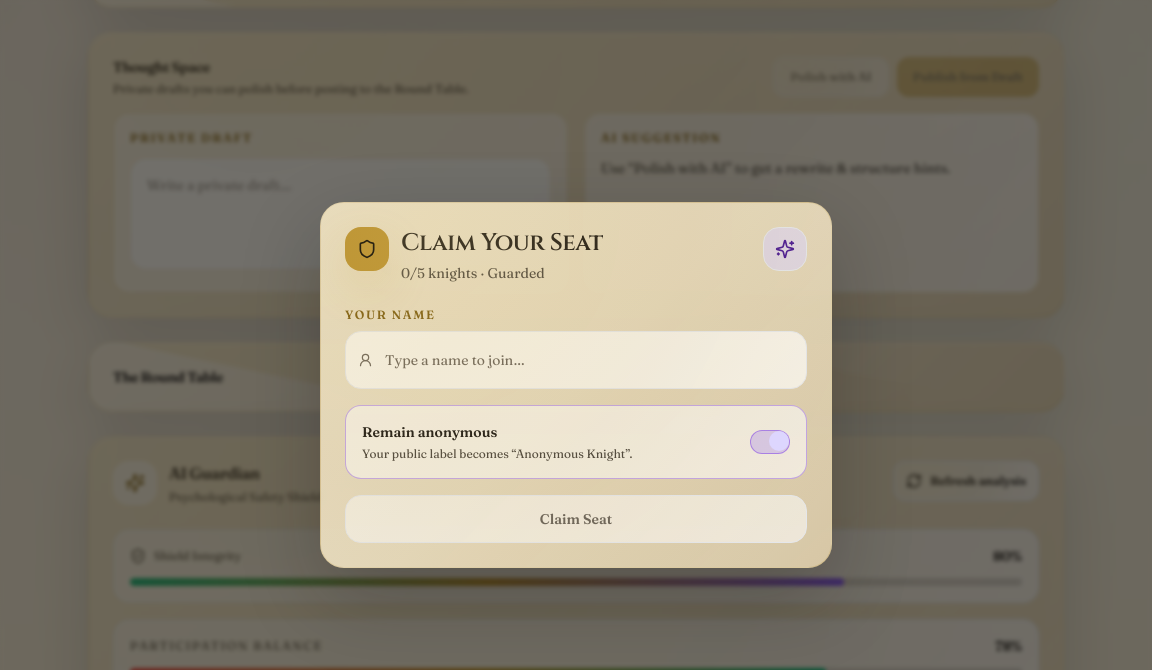
structured room disables sending when it is not your turn
(page scrolled)
Expected: the heading "Claim Your Seat" is shown, [401, 227, 603, 259]
Type "Alice" into the field labelled "YOUR NAME" at (590, 360), box [385, 340, 794, 380]
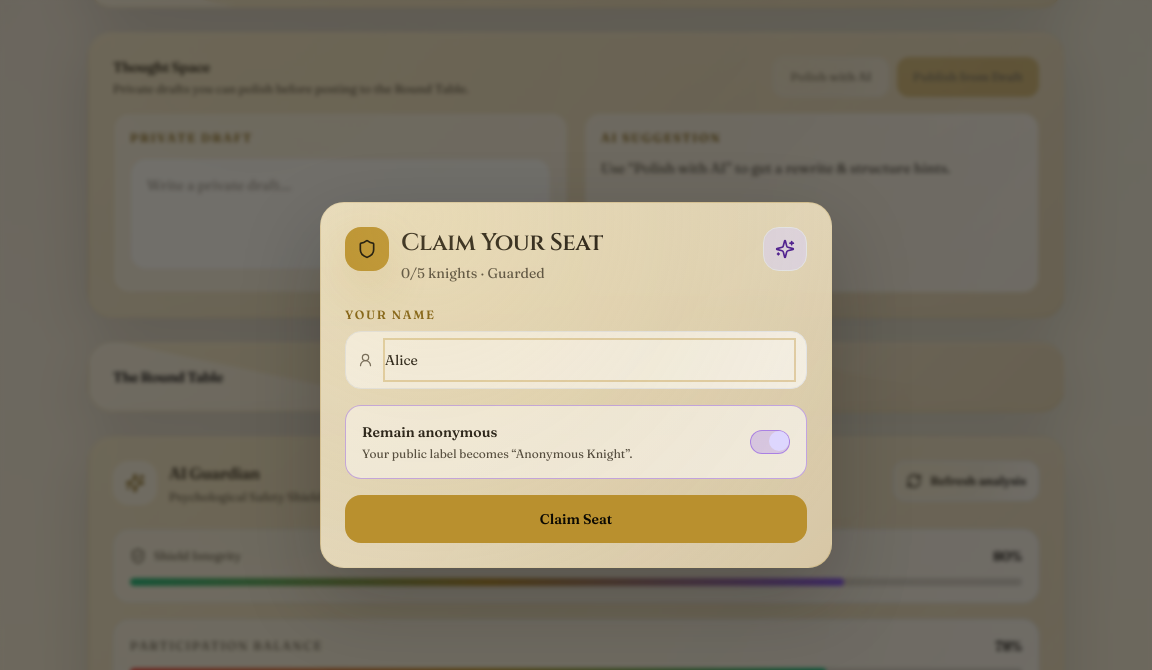
Click the button "Claim Seat" at (576, 519), box [345, 495, 807, 543]
(page scrolled)
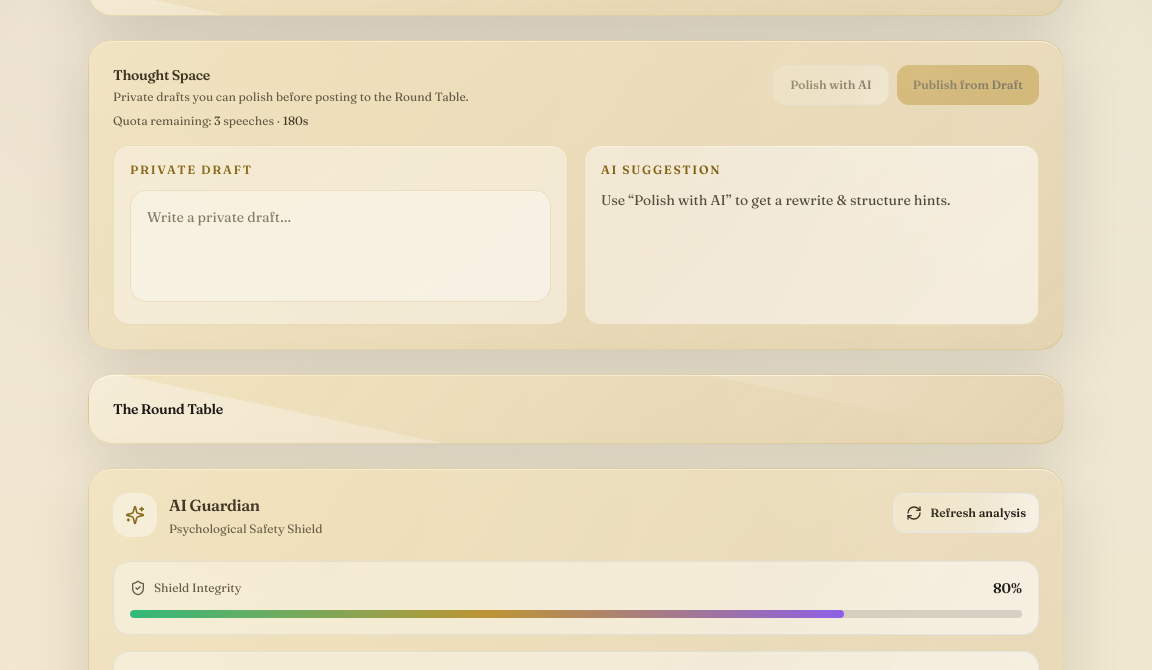
Type "Hi" into the text box labelled "Write a private draft…" at (340, 246), box [130, 190, 551, 302]
(page scrolled)
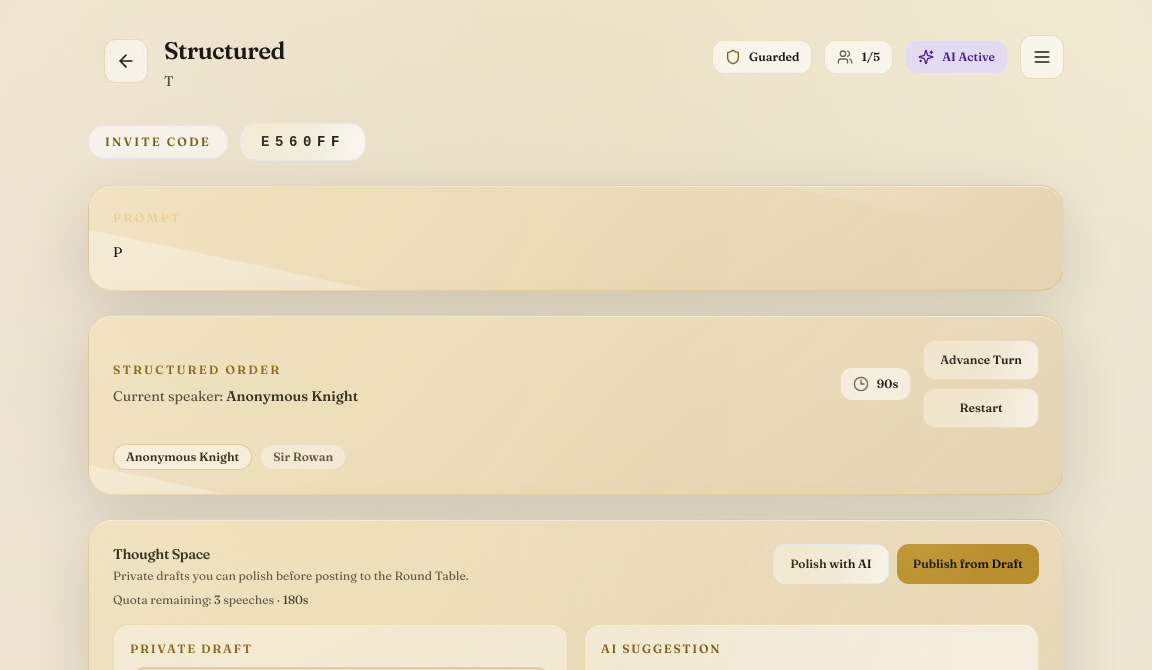
Expected: the button "Publish from Draft" is enabled, [897, 544, 1039, 584]
Click the button "Advance Turn" at (981, 360), box [923, 340, 1039, 380]
(page scrolled)
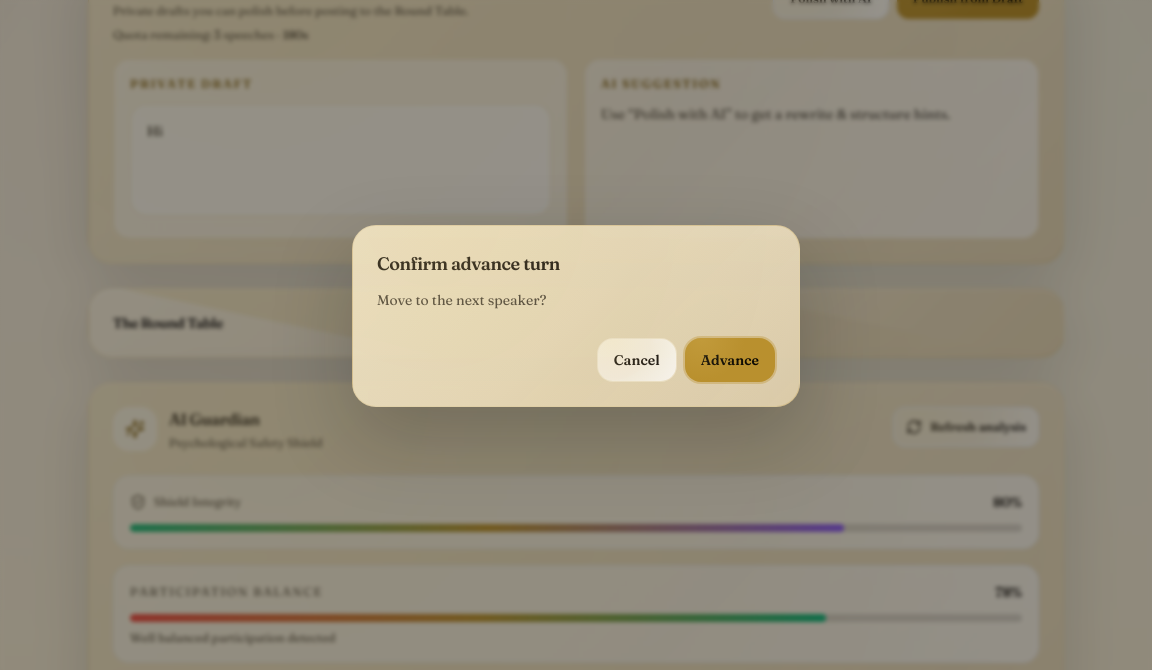
Click the button "Advance" at (730, 360), box [685, 338, 775, 382]
(page scrolled)
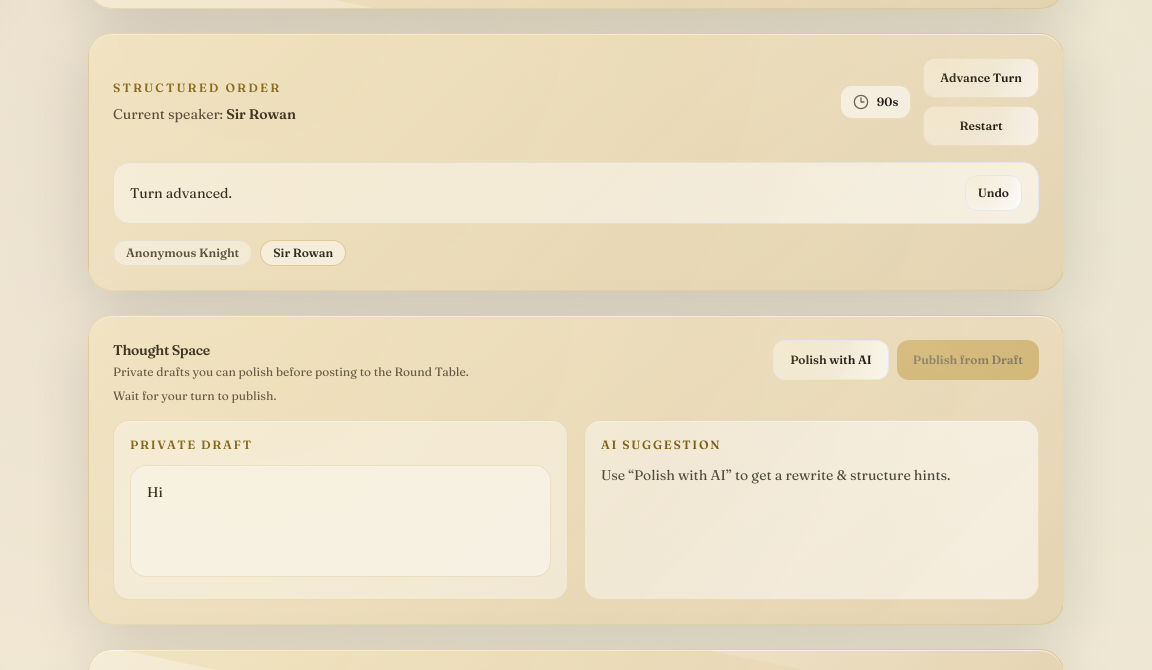
Expected: the button "Publish from Draft" is disabled, [897, 340, 1039, 380]
